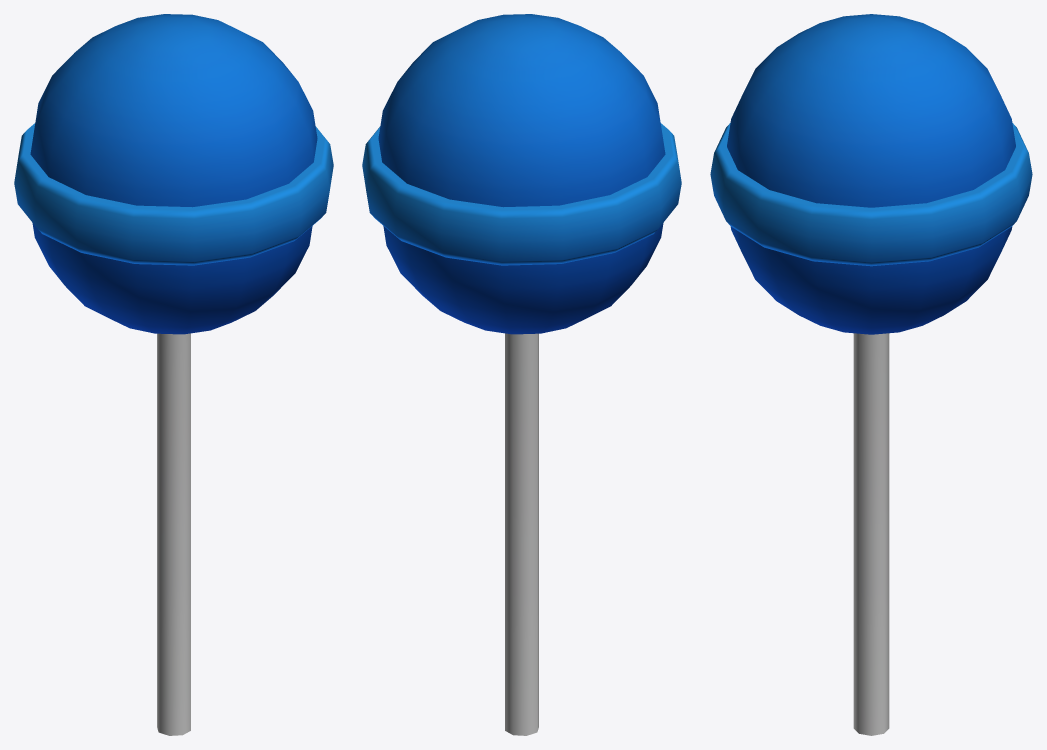
Rendered from lollipop_027.glb.
3 views of the same model, side by side, from view 1: azimuth 30°, elevation 25°; view 2: azimuth 150°, elevation 25°; view 3: azimuth 270°, elevation 25° (orthographic).
Parts seen in each view (by area): view 1: lollipop_027; view 2: lollipop_027; view 3: lollipop_027.
Part boxes in pixels (bbox=[...]): lollipop_027: bbox=[14, 14, 333, 735]; lollipop_027: bbox=[362, 14, 681, 735]; lollipop_027: bbox=[710, 14, 1032, 735].
Bounding box in the file's own units: 2.64 × 6.34 × 2.64.
1 material, 1 textured.
